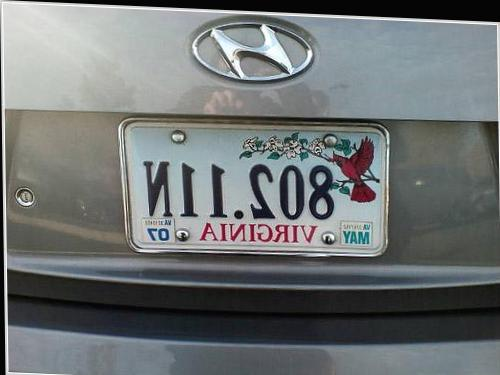License_Plate: (130, 119, 393, 255)
